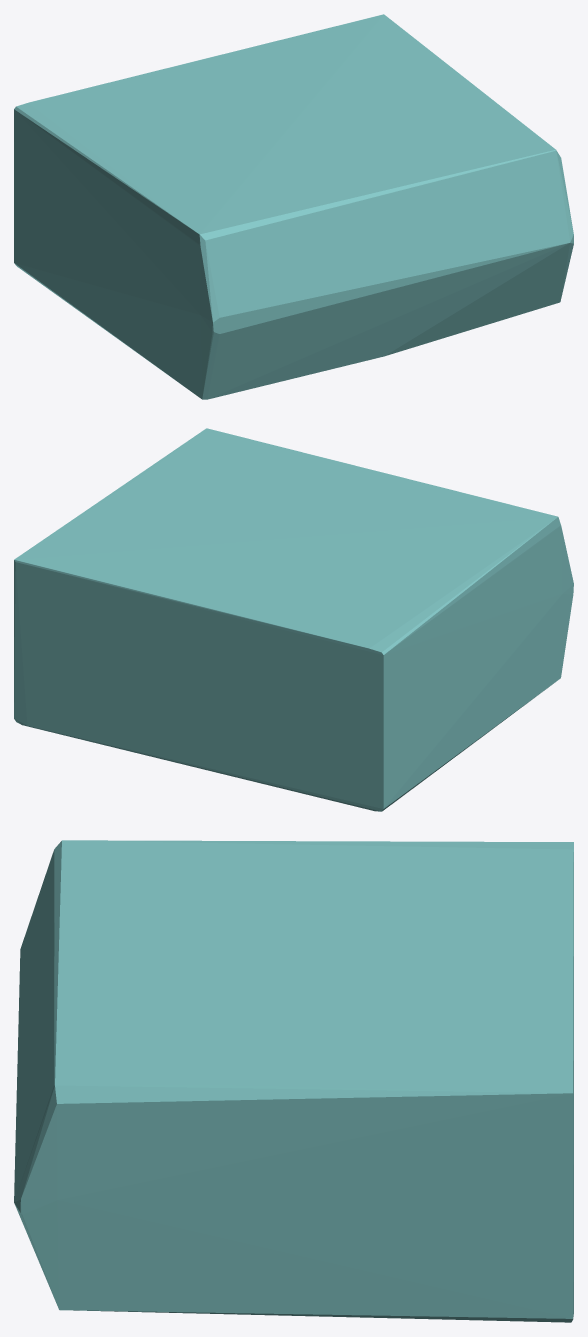
Rendered from rack_f10.glb.
3 renders of one model, top to bottom at view 1: azimuth 30°, elevation 25°; view 2: azimuth 150°, elevation 25°; view 3: azimuth 270°, elevation 25°, orthographic. The views are drawn at different scales.
Parts seen in each view (by area): view 1: geometry_0; view 2: geometry_0; view 3: geometry_0.
Boxes of the visible parts, x1=… form: geometry_0: x1=14, y1=14, x2=573, y2=399; geometry_0: x1=14, y1=428, x2=573, y2=811; geometry_0: x1=14, y1=840, x2=573, y2=1322.
Size of the model in its own units: 0.4798 by 0.2043 by 0.4428.
